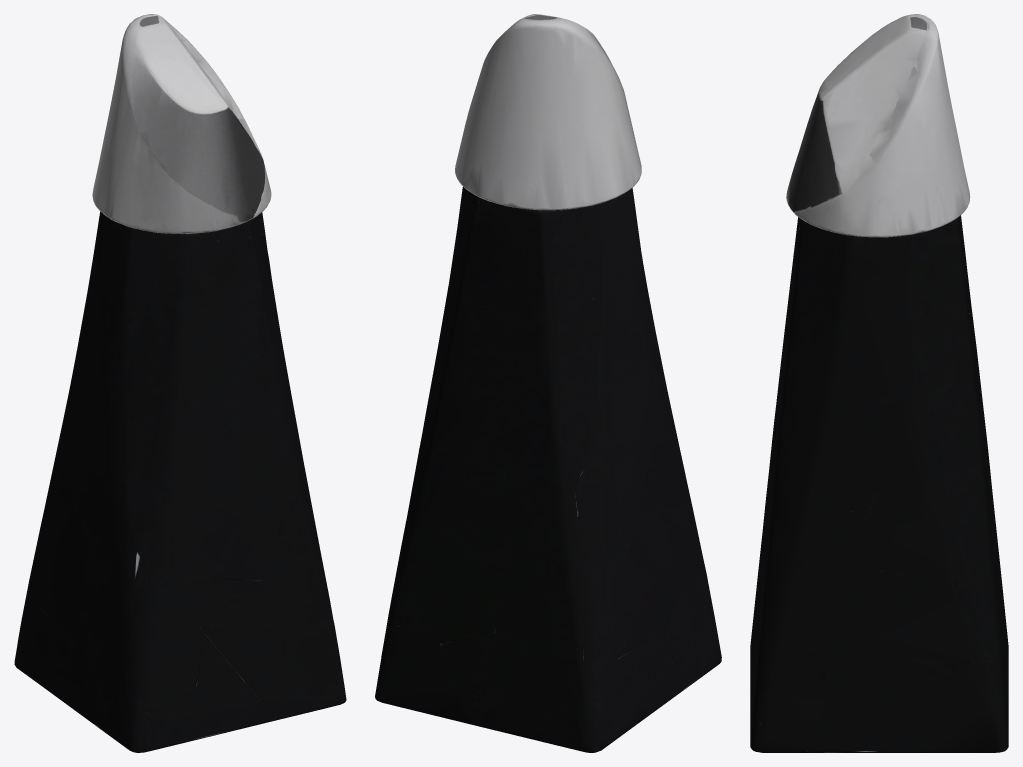
File: pawn-black.glb
The picture shows the model from 3 angles, left to right: view 1: azimuth 30°, elevation 25°; view 2: azimuth 150°, elevation 25°; view 3: azimuth 270°, elevation 25°; orthographic projection. The views are drawn at different scales.
Bounding box in the file's own units: 0.3811 × 1.1 × 0.3838.
Materials: 1 (1 with a texture image).
